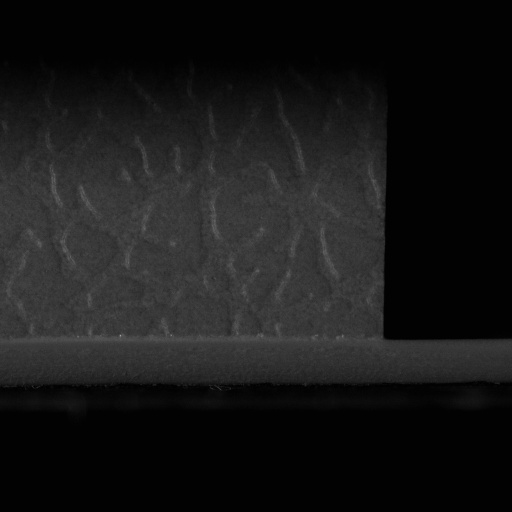changdai: (378, 337, 511, 387)
